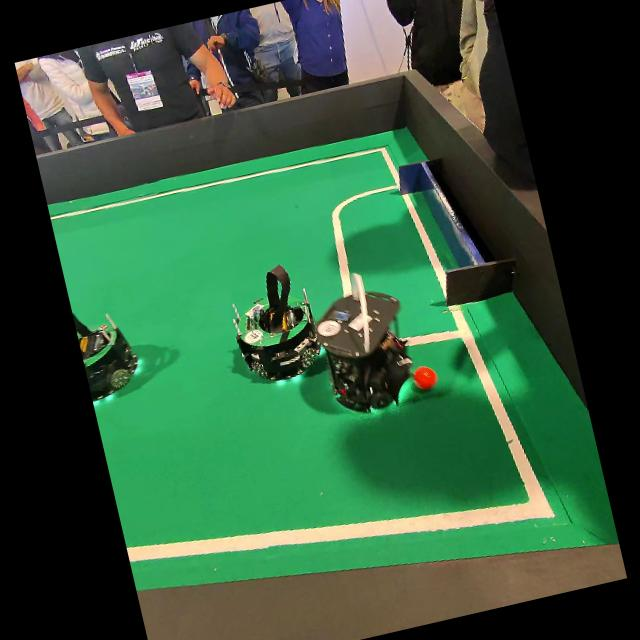ball: (412, 366, 436, 390)
goal: (397, 161, 514, 303)
robot: (316, 274, 410, 412), (232, 265, 319, 381), (72, 313, 136, 401)
